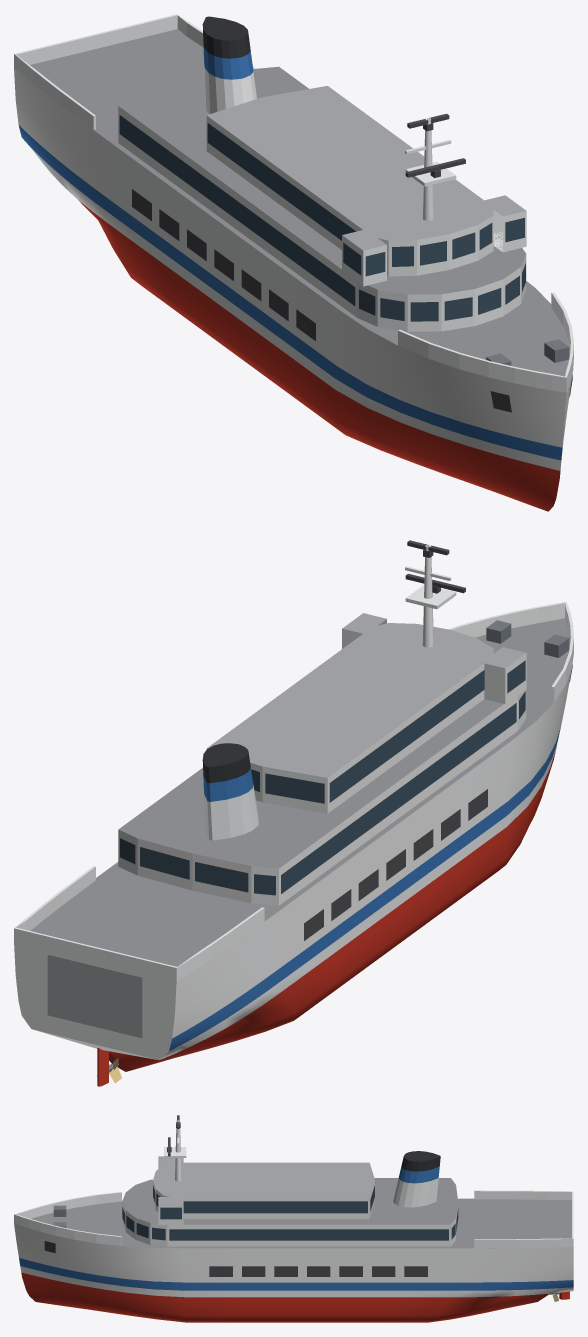
3 renders of one model, top to bottom at view 1: azimuth 30°, elevation 25°; view 2: azimuth 150°, elevation 25°; view 3: azimuth 270°, elevation 25°, orthographic. The views are drawn at different scales.
Parts seen in each view (by area): view 1: 0; view 2: 0; view 3: 0.
Part boxes in pixels (box(x1,y1,x2,y2)): 0: box(14, 14, 573, 511); 0: box(14, 540, 573, 1086); 0: box(14, 1115, 573, 1322).
Size of the model in its own units: 13.06 by 22.1 by 62.03.
